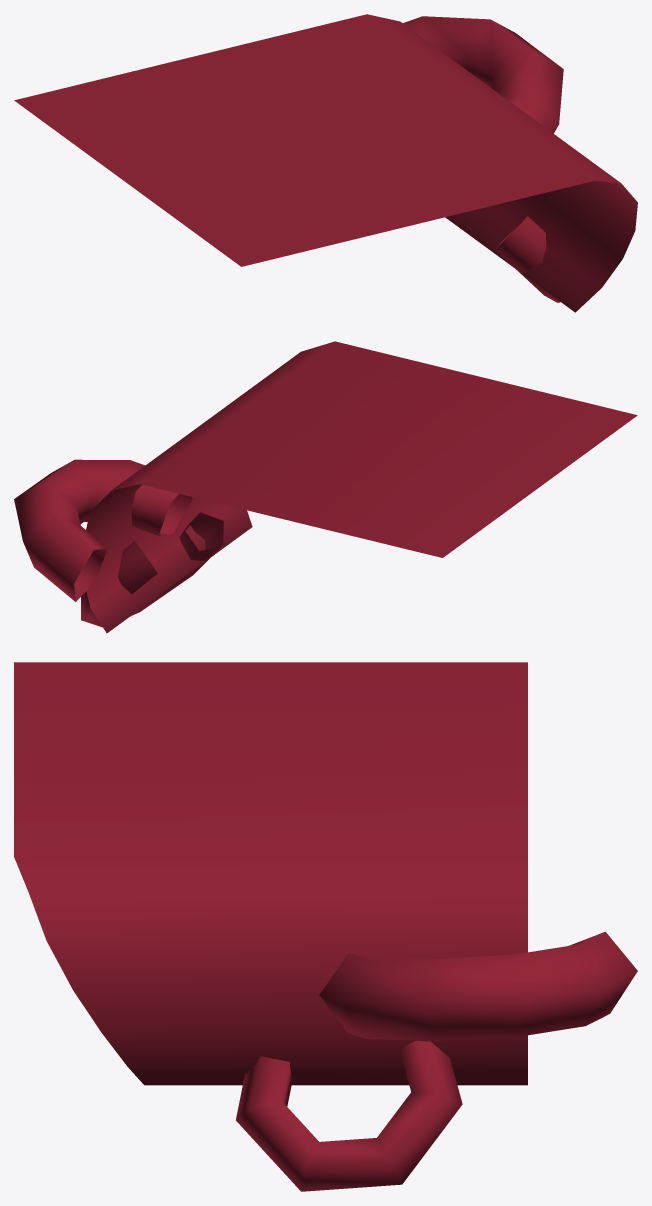
Rendered from Surface_SideUpCorner.fbx.
The picture shows the model from 3 angles, top to bottom: view 1: azimuth 30°, elevation 25°; view 2: azimuth 150°, elevation 25°; view 3: azimuth 270°, elevation 25°; orthographic projection. The views are drawn at different scales.
Visible parts, largest first — view 1: Surface_SideUpCorner; view 2: Surface_SideUpCorner; view 3: Surface_SideUpCorner.
Boxes of the visible parts, x1,y1,x2,y2 form: Surface_SideUpCorner: (14,14,637,312); Surface_SideUpCorner: (14,341,637,633); Surface_SideUpCorner: (14,662,637,1191).
Bounding box in the file's own units: 2555 × 1174 × 2428.
